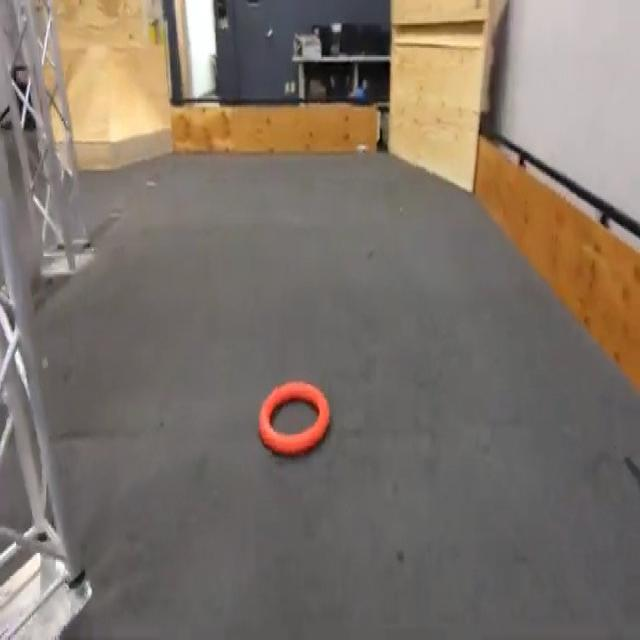note: (259, 386, 330, 458)
